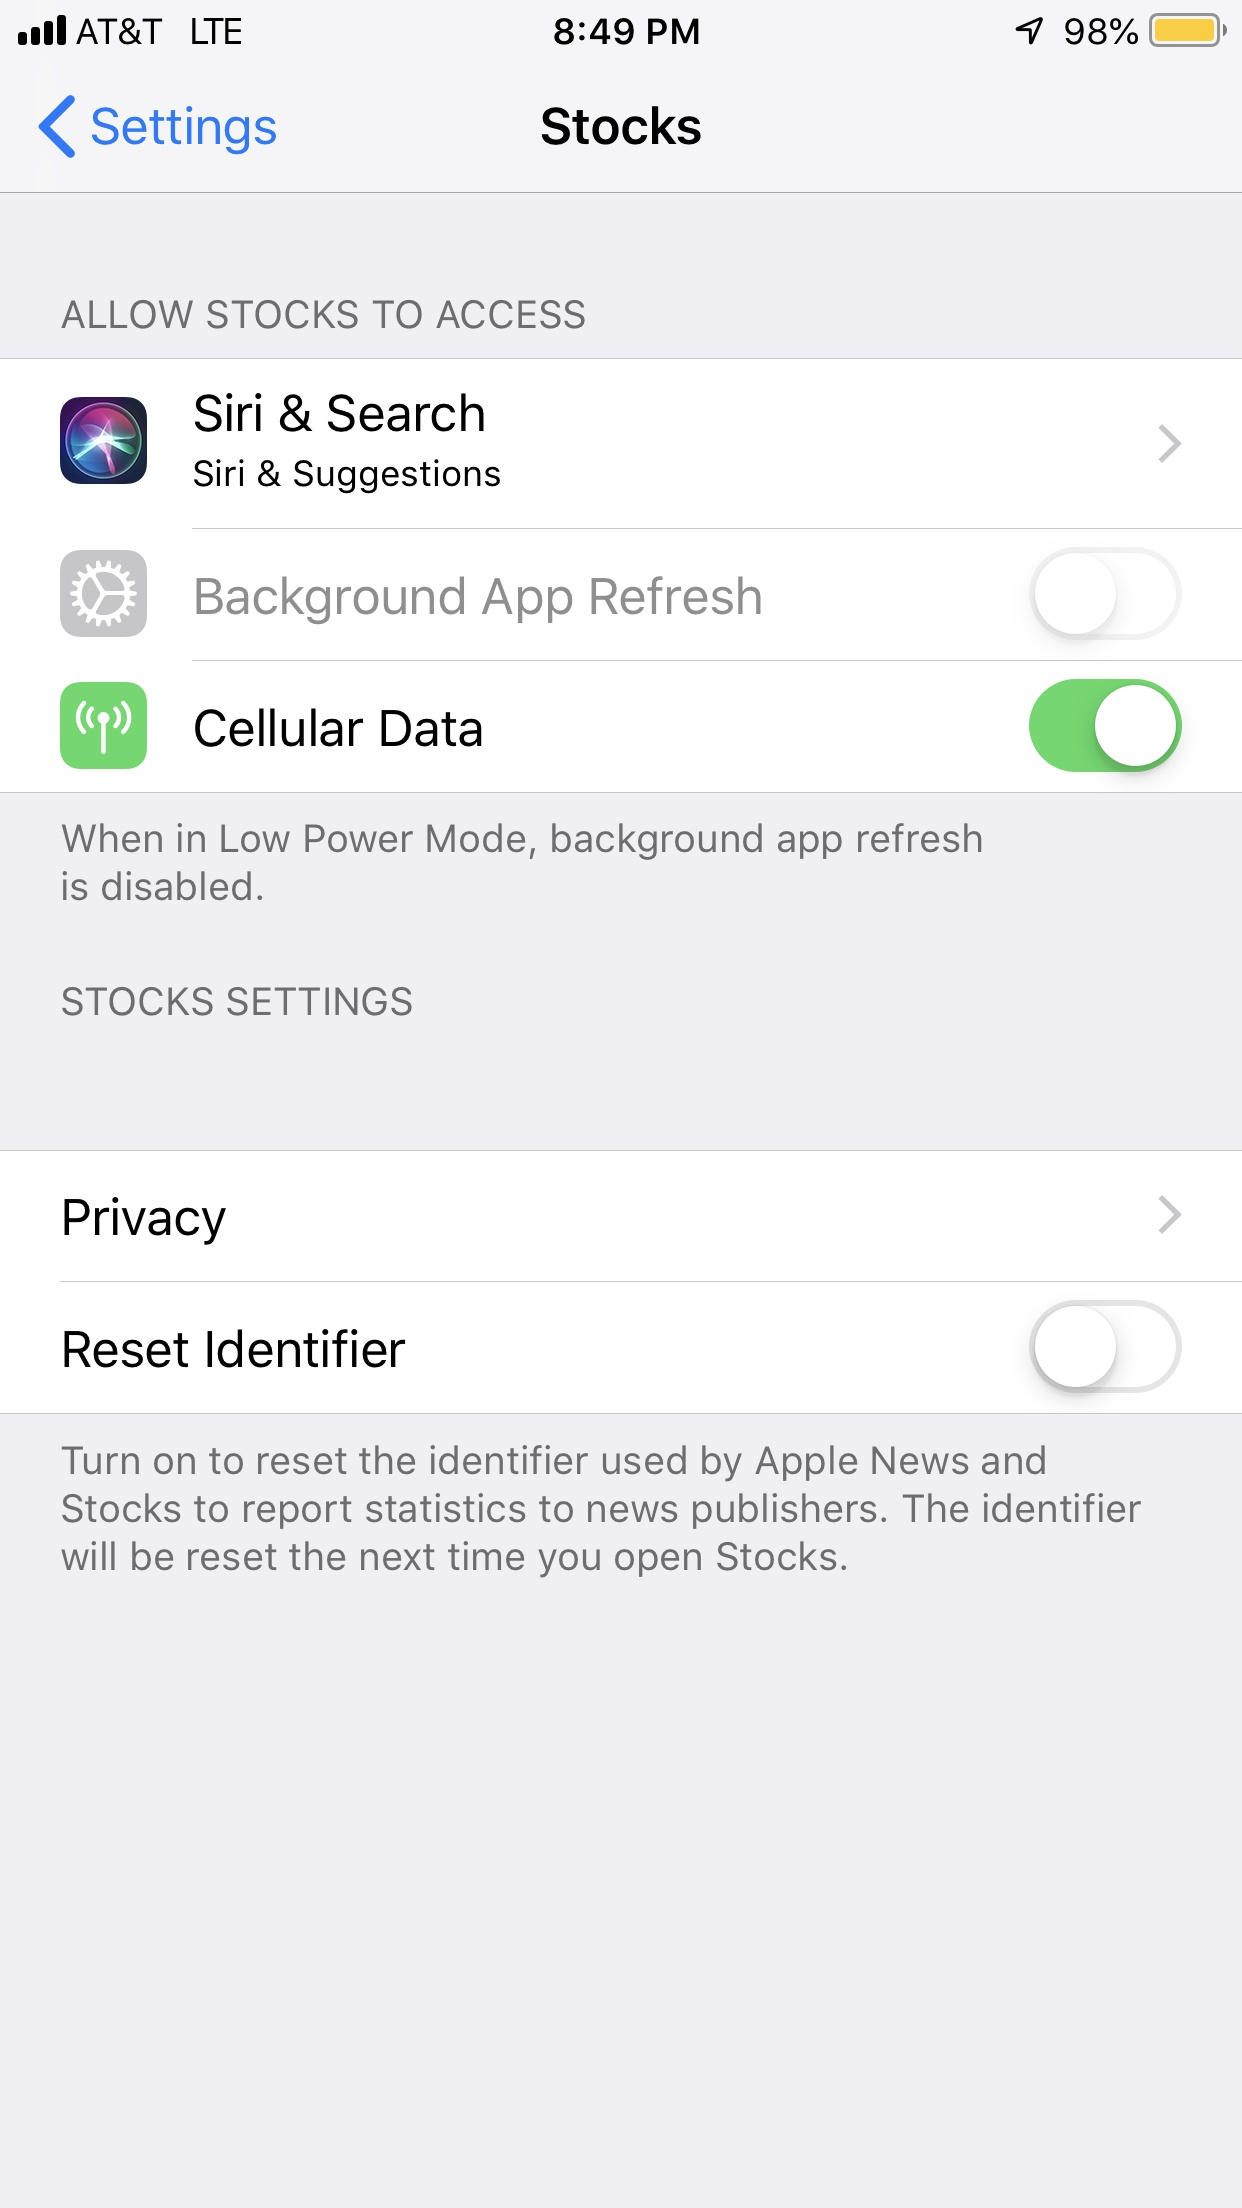Icon: (59, 550, 149, 638), (38, 96, 77, 161), (1159, 425, 1183, 466), (1159, 1193, 1183, 1234)
Image: (61, 681, 149, 770), (61, 397, 149, 485)
Switch: (1030, 546, 1183, 641), (1028, 1300, 1183, 1394), (1030, 679, 1183, 773)
Text: (62, 1445, 1142, 1580), (62, 822, 981, 902), (196, 575, 761, 626), (61, 299, 587, 331), (64, 1328, 406, 1369), (196, 391, 485, 434), (194, 707, 482, 748), (194, 458, 502, 494), (62, 986, 414, 1018), (93, 106, 278, 156), (64, 1197, 227, 1247), (541, 106, 702, 147)
UpperTaskBar: (2, 2, 1242, 49)
